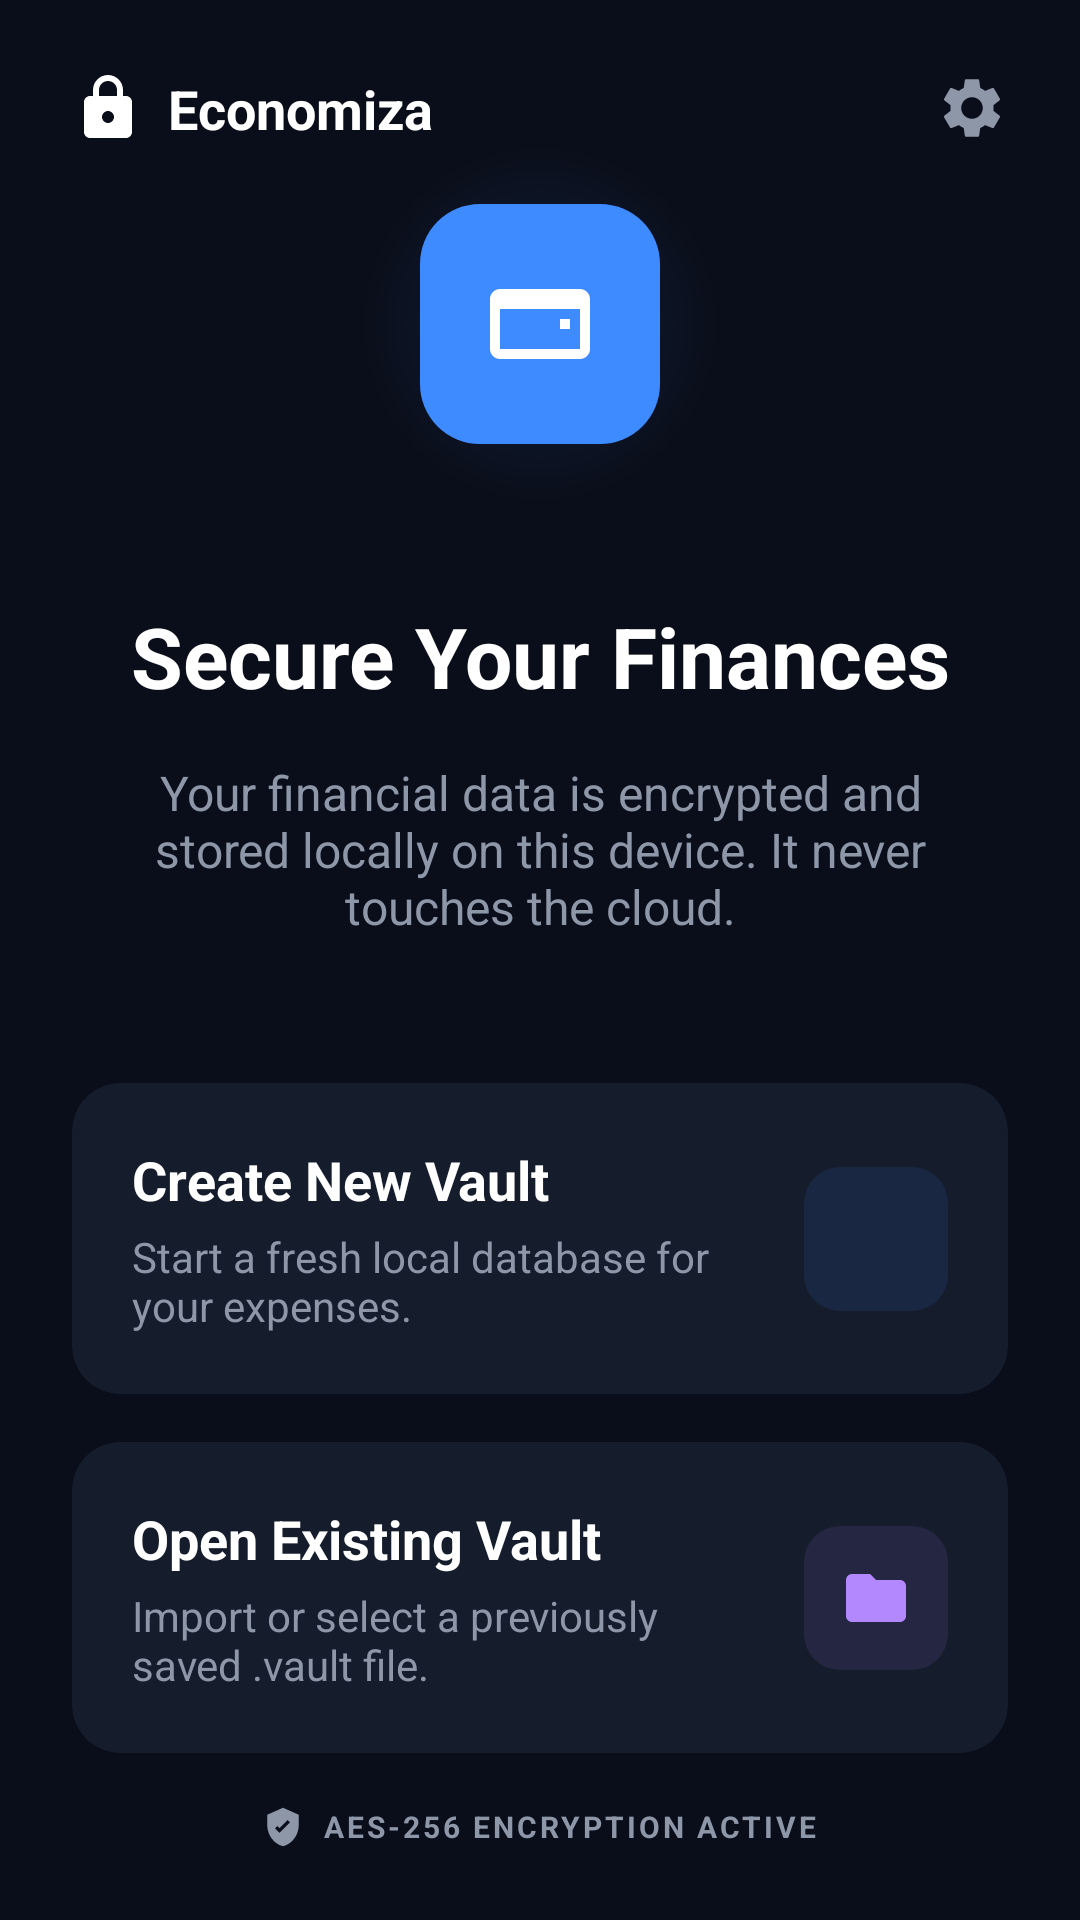

Named icons in this screenshot (1080x1920) and their centers, point (x, y):
folder: point (876, 1598)
lock: point (108, 106)
settings: point (972, 108)
shield check: point (283, 1827)
